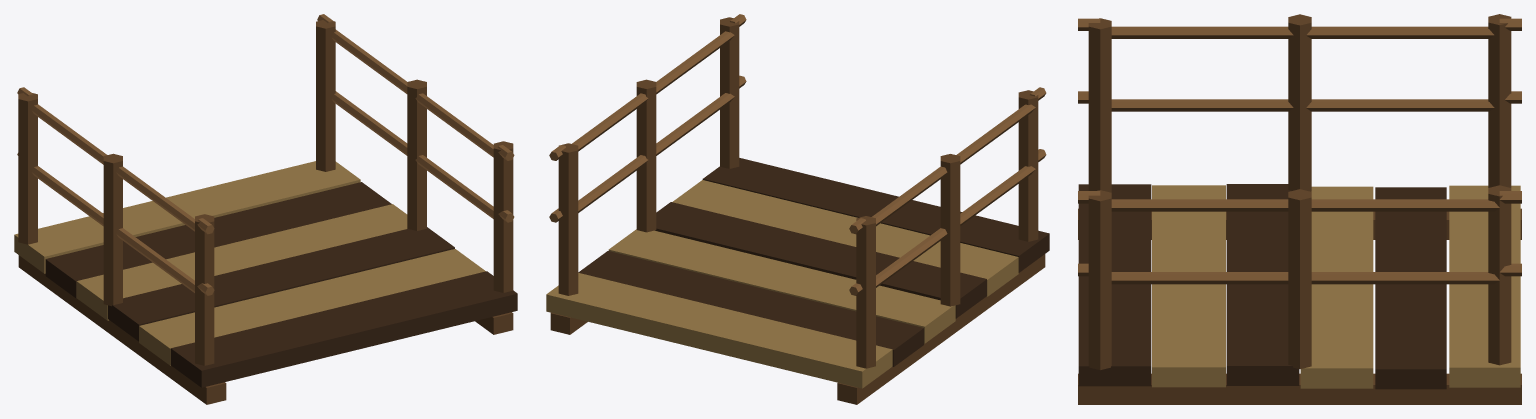
Rendered from bridge_middle.obj.
The picture shows the model from 3 angles, left to right: view 1: azimuth 30°, elevation 25°; view 2: azimuth 150°, elevation 25°; view 3: azimuth 270°, elevation 25°; orthographic projection. The views are drawn at different scales.
Visible parts, largest first — view 1: geometry_5, geometry_3, geometry_4, geometry_0, geometry_1, geometry_2, geometry_19, geometry_9, geometry_8, geometry_21, geometry_6, geometry_20 (+10 smaller); view 2: geometry_0, geometry_2, geometry_1, geometry_3, geometry_5, geometry_4, geometry_19, geometry_9, geometry_20, geometry_8, geometry_6, geometry_10 (+10 smaller); view 3: geometry_4, geometry_1, geometry_2, geometry_3, geometry_5, geometry_0, geometry_7, geometry_20, geometry_21, geometry_9, geometry_10, geometry_8 (+9 smaller).
Boxes of the visible parts, <box> form: geometry_5: <box>170,271,517,387</box>; geometry_3: <box>108,227,454,341</box>; geometry_4: <box>139,249,485,365</box>; geometry_0: <box>14,161,360,273</box>; geometry_1: <box>45,182,391,298</box>; geometry_2: <box>76,204,407,320</box>; geometry_19: <box>316,20,335,171</box>; geometry_9: <box>103,153,122,306</box>; geometry_8: <box>18,93,37,244</box>; geometry_21: <box>493,141,513,292</box>; geometry_6: <box>18,255,226,404</box>; geometry_20: <box>407,79,426,230</box>; geometry_0: <box>546,273,892,388</box>; geometry_2: <box>608,229,955,343</box>; geometry_1: <box>578,251,923,366</box>; geometry_3: <box>655,202,986,318</box>; geometry_5: <box>702,158,1049,272</box>; geometry_4: <box>672,180,1018,296</box>; geometry_19: <box>558,143,578,295</box>; geometry_9: <box>940,154,960,306</box>; geometry_20: <box>636,79,656,232</box>; geometry_8: <box>856,216,875,368</box>; geometry_6: <box>837,254,1045,404</box>; geometry_10: <box>1018,90,1038,241</box>; geometry_4: <box>1152,185,1225,387</box>; geometry_1: <box>1375,187,1446,389</box>; geometry_2: <box>1300,186,1373,388</box>; geometry_3: <box>1226,184,1299,385</box>; geometry_5: <box>1078,184,1151,386</box>; geometry_0: <box>1449,185,1520,387</box>; geometry_7: <box>1078,373,1521,404</box>; geometry_20: <box>1288,189,1311,368</box>; geometry_21: <box>1088,190,1111,370</box>; geometry_9: <box>1288,14,1311,191</box>; geometry_10: <box>1088,18,1111,192</box>; geometry_8: <box>1488,14,1511,187</box>.
Bounding box in the file's own units: 0.9987 × 0.5237 × 1.
